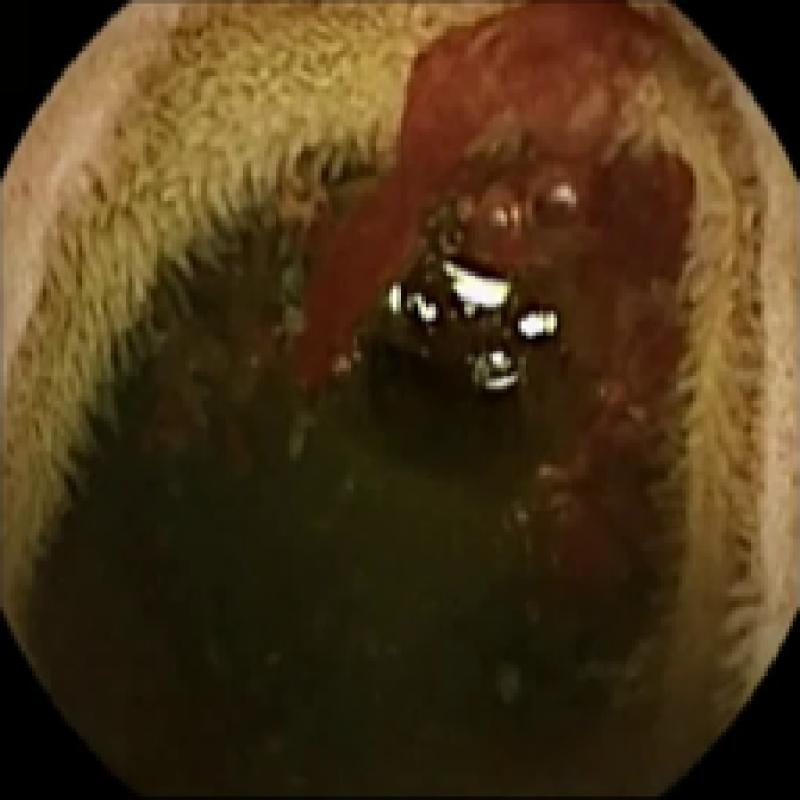bleeding: (257, 0, 701, 546)
